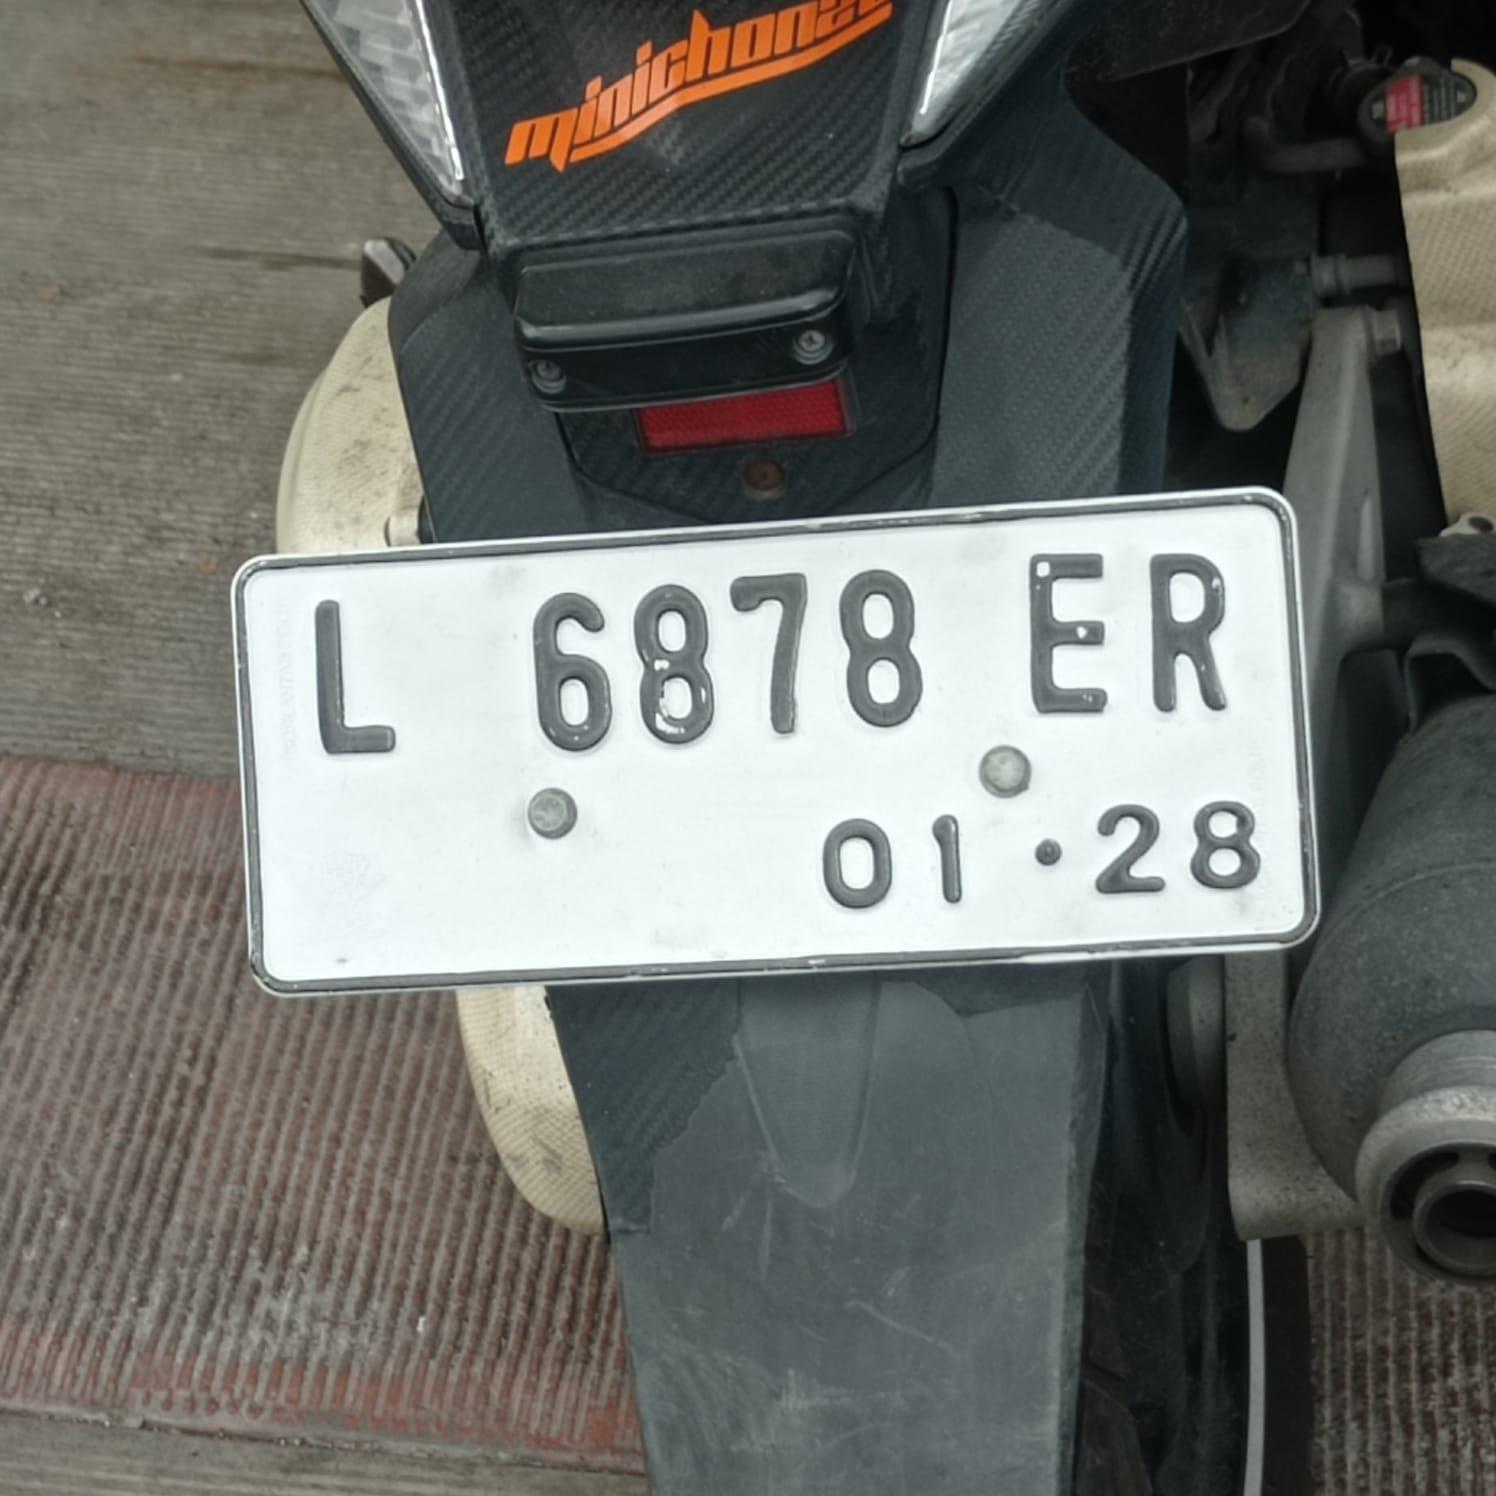plat: (234, 488, 1321, 993)
